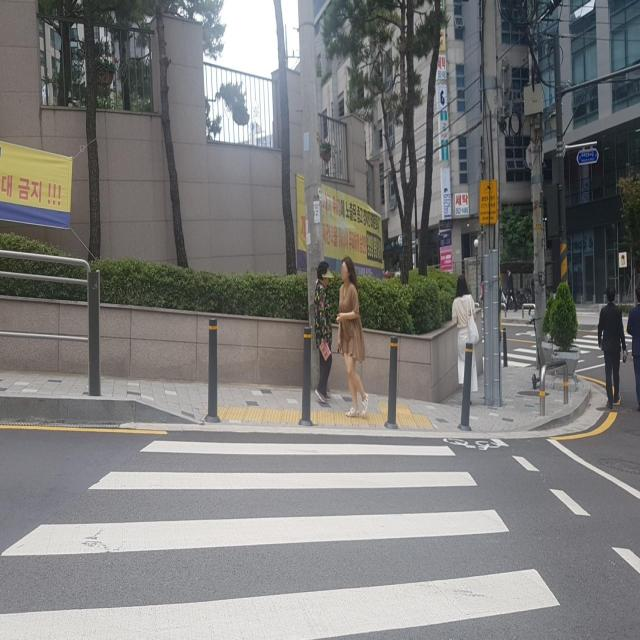횡단보도: (0, 436, 561, 640)
